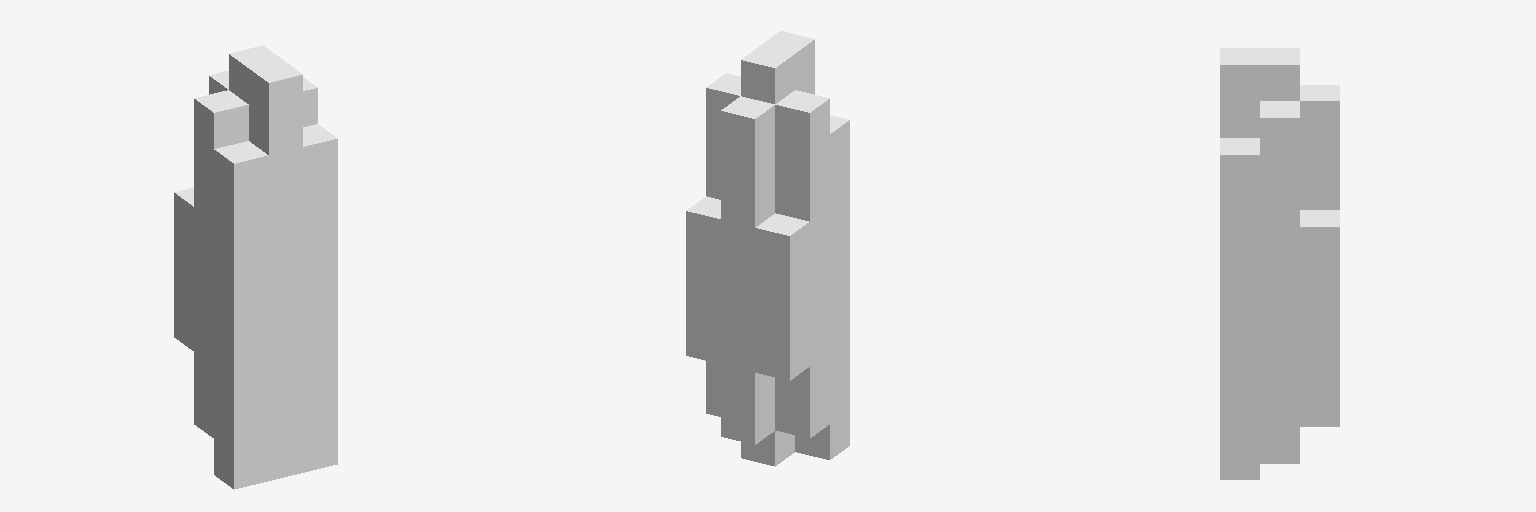
The model's file is DefaultHand.obj.
3 views of the same model, side by side, from view 1: azimuth 30°, elevation 25°; view 2: azimuth 150°, elevation 25°; view 3: azimuth 270°, elevation 25° (orthographic).
Visible parts, largest first — view 1: object 1; view 2: object 1; view 3: object 1.
Boxes of the visible parts, x1=… form: object 1: x1=174, y1=45, x2=337, y2=489; object 1: x1=686, y1=31, x2=849, y2=466; object 1: x1=1220, y1=48, x2=1339, y2=479.
Bounding box in the file's own units: 0.3 × 1.1 × 0.3.